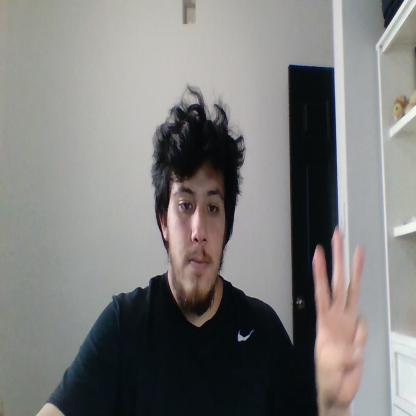W: (314, 227, 366, 408)
